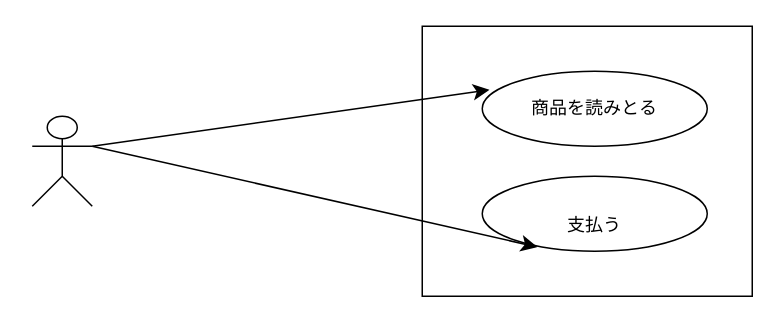
This 779x323 diagram has some shape labels left out. Here are the shapes that lost their labels. From the top down, the box of each, then its label:
(31, 115, 92, 206): お客さん
(421, 25, 752, 296): セルフレジ
